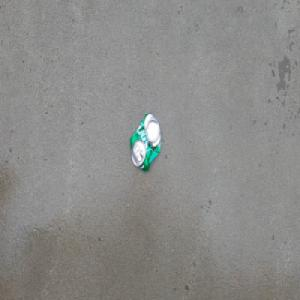SodaCan: (129, 111, 162, 174)
